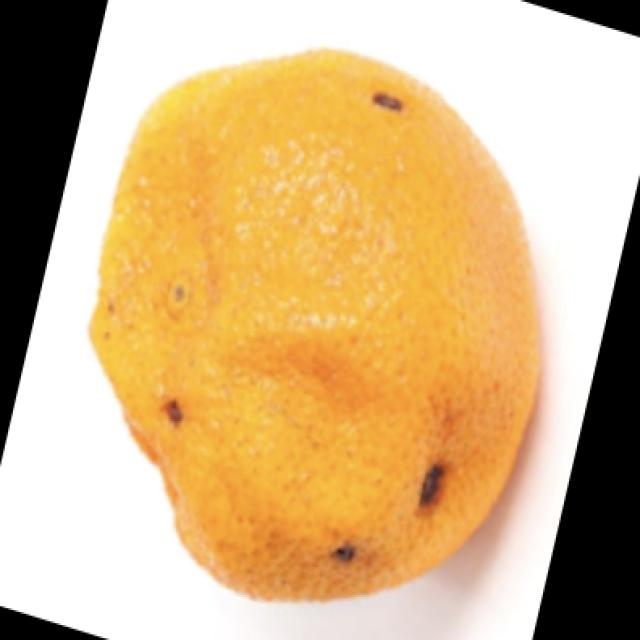sedikit_busuk: (96, 53, 542, 607)
